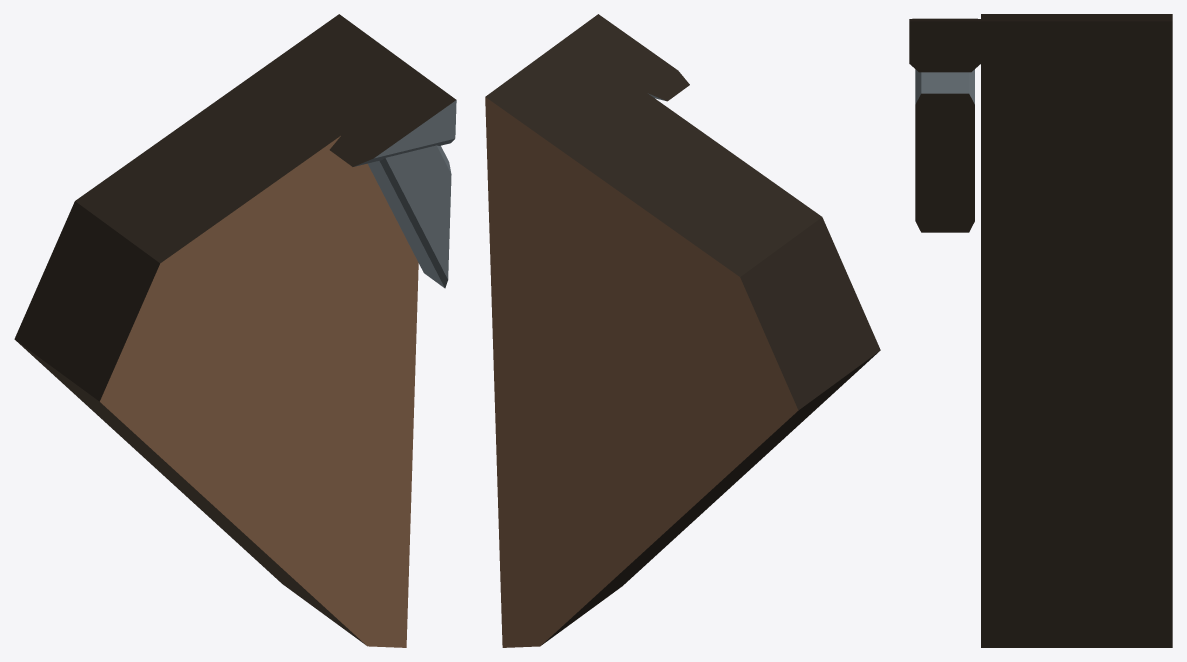
File: SM_DoorShard_02_52.fbx
3 views of the same model, side by side, from view 1: azimuth 30°, elevation 25°; view 2: azimuth 150°, elevation 25°; view 3: azimuth 270°, elevation 25° (orthographic). The views are drawn at different scales.
Parts seen in each view (by area): view 1: SM_DoorShard_02_52; view 2: SM_DoorShard_02_52; view 3: SM_DoorShard_02_52.
Part boxes in pixels (box(x1,y1,x2,y2)): SM_DoorShard_02_52: box(14, 14, 456, 647); SM_DoorShard_02_52: box(485, 14, 880, 647); SM_DoorShard_02_52: box(909, 14, 1172, 647).
Bounding box in the file's own units: 35.16 × 22 × 58.65.
